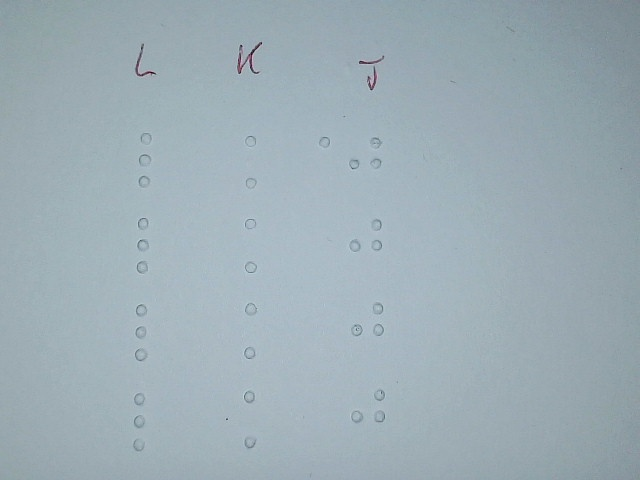J: (347, 127, 384, 185), (347, 209, 384, 267), (349, 293, 386, 351), (350, 379, 387, 437)
K: (234, 131, 279, 193), (236, 215, 281, 277), (235, 299, 280, 361), (235, 387, 280, 449)
L: (130, 129, 175, 191), (131, 215, 176, 277), (127, 300, 172, 362), (127, 390, 172, 452)
